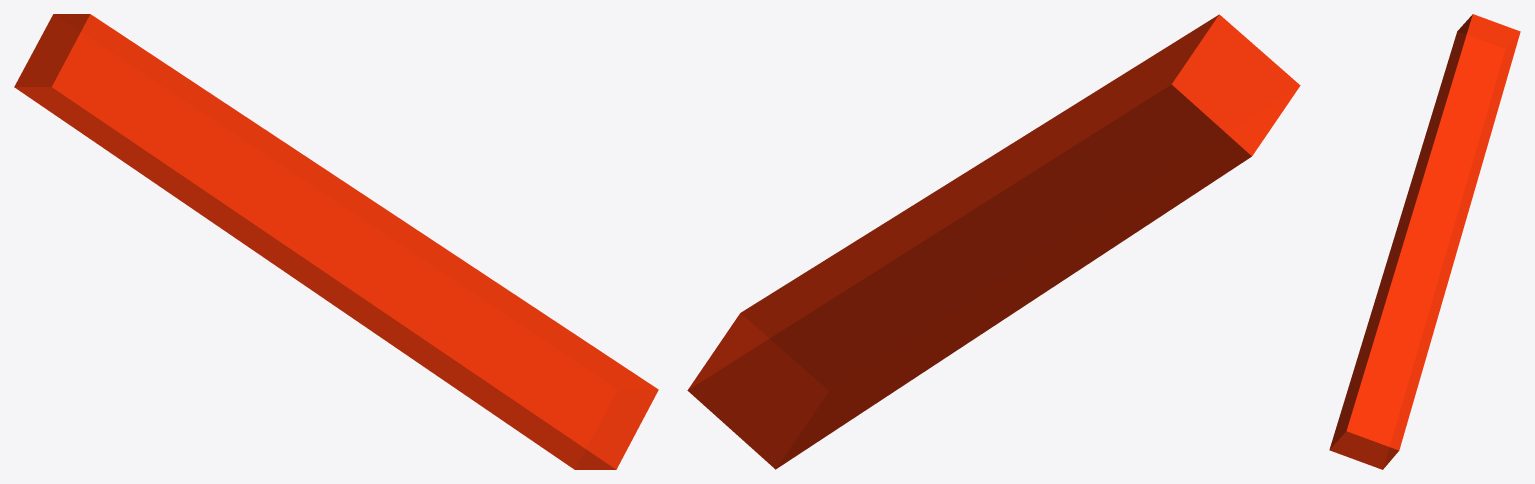
File: Event_421127236_EBrechit_49.fbx
The picture shows the model from 3 angles, left to right: view 1: azimuth 30°, elevation 25°; view 2: azimuth 150°, elevation 25°; view 3: azimuth 270°, elevation 25°; orthographic projection. The views are drawn at different scales.
Parts seen in each view (by area): view 1: Model; view 2: Model; view 3: Model.
Part boxes in pixels (x1,y1,x2,y2): Model: [14, 14, 658, 469]; Model: [687, 14, 1300, 469]; Model: [1329, 14, 1520, 469].
Size of the model in its own units: 0.4158 by 0.3858 by 0.2054.
